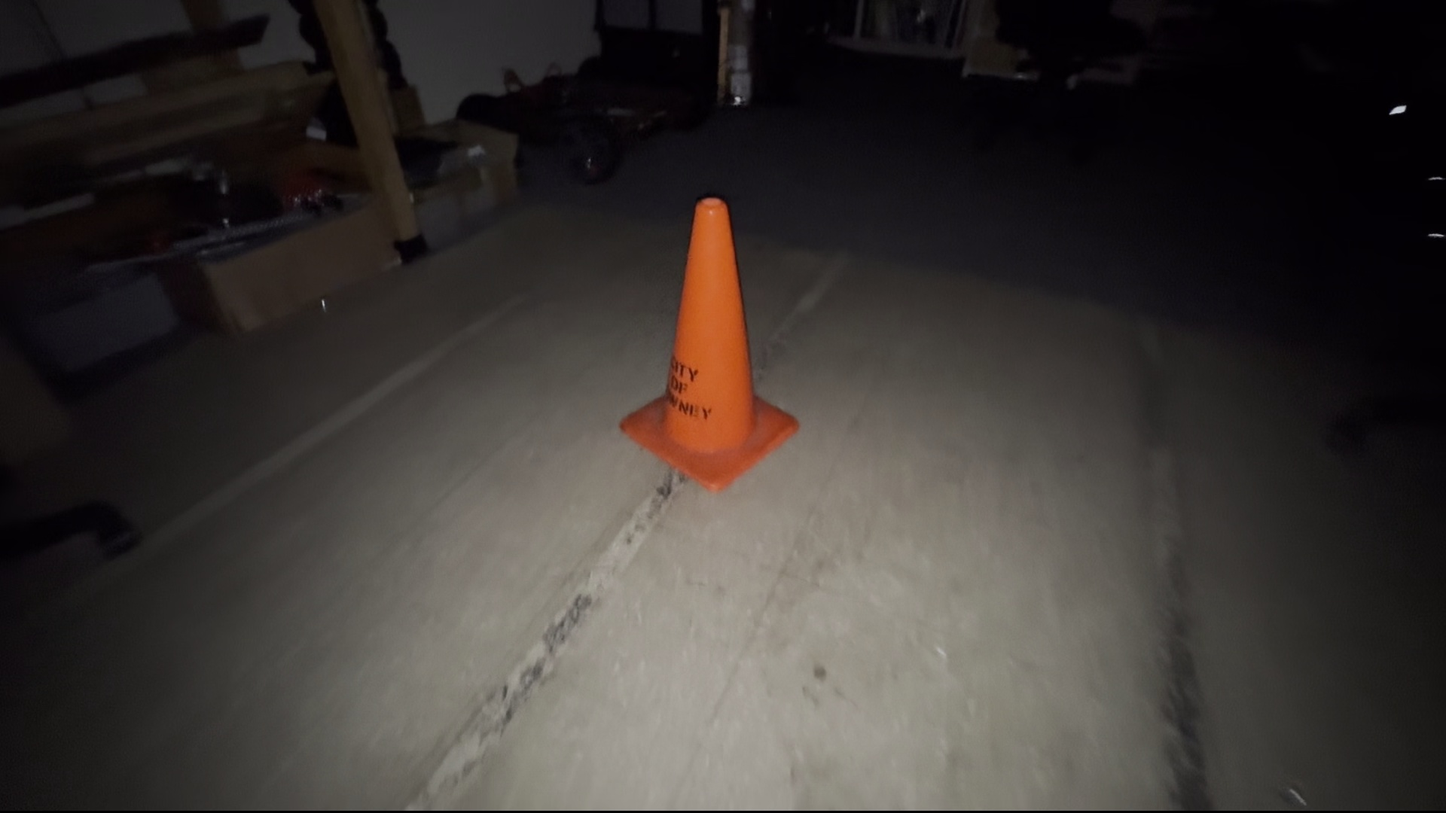traffic_cone: (618, 195, 800, 493)
